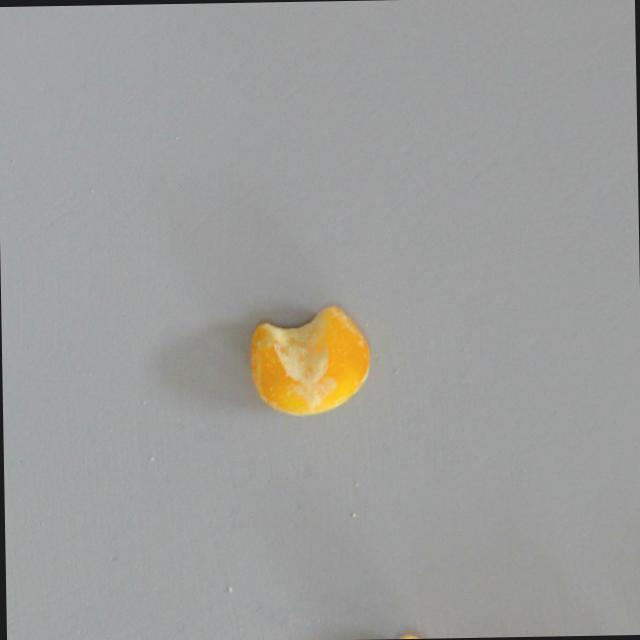pelicula: (247, 302, 370, 417)
